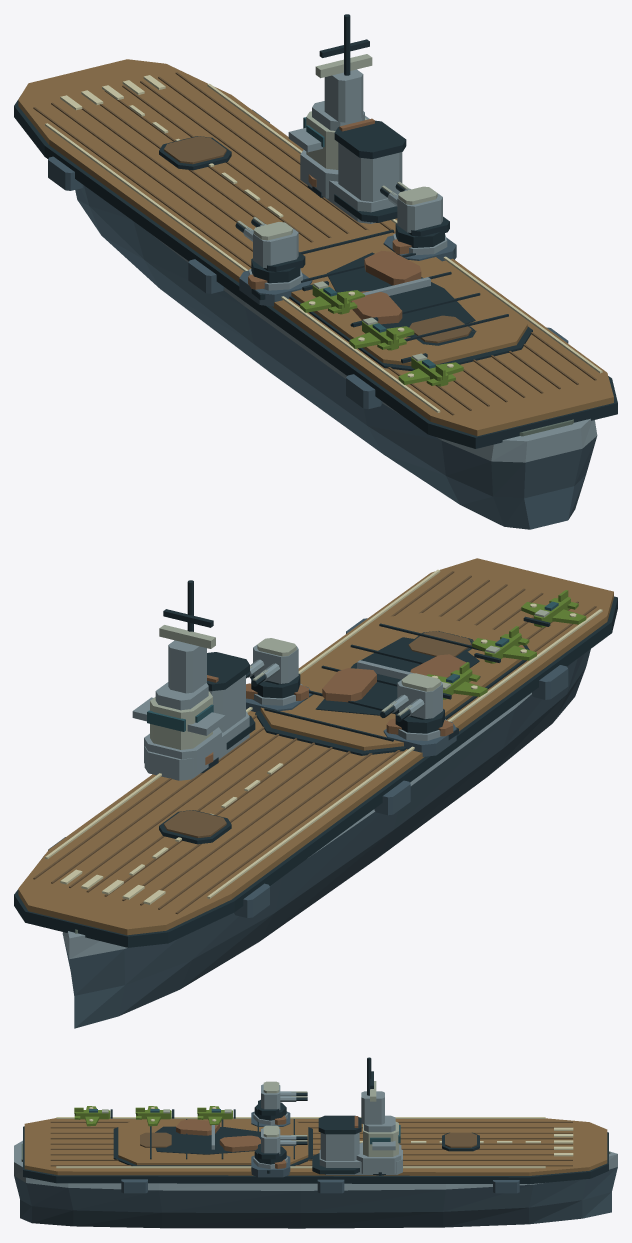
File: historic-saipan.glb
3 views of the same model, one above another, from view 1: azimuth 30°, elevation 25°; view 2: azimuth 150°, elevation 25°; view 3: azimuth 270°, elevation 25° (orthographic). The views are drawn at different scales.
Parts seen in each view (by area): view 1: historic-saipan-historic-saipan-geometry, historic-saipan-part_flight-deck.016-geometry, historic-saipan-part_bridge.074-geometry, historic-saipan-ruin_flight-deck.015-geometry, historic-saipan-historic_funnel_0.077-geometry, historic-saipan-turret_aa_aa-port.078-geometry, historic-saipan-turret_aa_aa-starboard.074-geometry, historic-saipan-aircraft_lift_0.016-geometry, historic-saipan-parked_aircraft_1.016-geometry, historic-saipan-parked_aircraft_0.016-geometry, historic-saipan-parked_aircraft_2.016-geometry, historic-saipan-aircraft_lift_1.016-geometry (+2 smaller); view 2: historic-saipan-historic-saipan-geometry, historic-saipan-part_flight-deck.016-geometry, historic-saipan-part_bridge.074-geometry, historic-saipan-ruin_flight-deck.015-geometry, historic-saipan-historic_funnel_0.077-geometry, historic-saipan-turret_aa_aa-port.078-geometry, historic-saipan-turret_aa_aa-starboard.074-geometry, historic-saipan-aircraft_lift_0.016-geometry, historic-saipan-parked_aircraft_0.016-geometry, historic-saipan-parked_aircraft_1.016-geometry, historic-saipan-part_aa-port.078-geometry, historic-saipan-aircraft_lift_1.016-geometry (+2 smaller); view 3: historic-saipan-historic-saipan-geometry, historic-saipan-part_flight-deck.016-geometry, historic-saipan-part_bridge.074-geometry, historic-saipan-historic_funnel_0.077-geometry, historic-saipan-ruin_flight-deck.015-geometry, historic-saipan-turret_aa_aa-port.078-geometry, historic-saipan-turret_aa_aa-starboard.074-geometry, historic-saipan-aircraft_lift_0.016-geometry, historic-saipan-part_aa-starboard.074-geometry, historic-saipan-parked_aircraft_1.016-geometry, historic-saipan-parked_aircraft_0.016-geometry, historic-saipan-parked_aircraft_2.016-geometry (+2 smaller).
Boxes of the visible parts, box(x1,y1,x2,y2) form: historic-saipan-historic-saipan-geometry: box(14, 59, 617, 529); historic-saipan-part_flight-deck.016-geometry: box(289, 229, 532, 370); historic-saipan-part_bridge.074-geometry: box(288, 14, 372, 198); historic-saipan-ruin_flight-deck.015-geometry: box(327, 250, 475, 337); historic-saipan-historic_funnel_0.077-geometry: box(326, 118, 406, 223); historic-saipan-turret_aa_aa-port.078-geometry: box(235, 217, 305, 283); historic-saipan-turret_aa_aa-starboard.074-geometry: box(380, 181, 449, 247); historic-saipan-aircraft_lift_0.016-geometry: box(159, 136, 231, 170); historic-saipan-parked_aircraft_1.016-geometry: box(349, 317, 414, 350); historic-saipan-parked_aircraft_0.016-geometry: box(398, 353, 463, 386); historic-saipan-parked_aircraft_2.016-geometry: box(300, 281, 364, 314); historic-saipan-aircraft_lift_1.016-geometry: box(409, 315, 476, 345); historic-saipan-historic-saipan-geometry: box(14, 558, 617, 1028); historic-saipan-part_flight-deck.016-geometry: box(255, 612, 529, 755); historic-saipan-part_bridge.074-geometry: box(132, 580, 225, 776); historic-saipan-ruin_flight-deck.015-geometry: box(315, 637, 479, 715); historic-saipan-historic_funnel_0.077-geometry: box(144, 652, 255, 780); historic-saipan-turret_aa_aa-port.078-geometry: box(380, 673, 444, 733); historic-saipan-turret_aa_aa-starboard.074-geometry: box(246, 638, 300, 698); historic-saipan-aircraft_lift_0.016-geometry: box(159, 810, 231, 844); historic-saipan-parked_aircraft_0.016-geometry: box(521, 590, 586, 627); historic-saipan-parked_aircraft_1.016-geometry: box(472, 626, 536, 663); historic-saipan-part_aa-port.078-geometry: box(383, 719, 456, 756); historic-saipan-aircraft_lift_1.016-geometry: box(408, 631, 473, 656); historic-saipan-historic-saipan-geometry: box(14, 1117, 617, 1228); historic-saipan-part_flight-deck.016-geometry: box(113, 1119, 312, 1166); historic-saipan-part_bridge.074-geometry: box(356, 1057, 401, 1173); historic-saipan-historic_funnel_0.077-geometry: box(312, 1115, 402, 1174); historic-saipan-ruin_flight-deck.015-geometry: box(155, 1119, 260, 1154); historic-saipan-turret_aa_aa-port.078-geometry: box(254, 1081, 307, 1120); historic-saipan-turret_aa_aa-starboard.074-geometry: box(254, 1125, 307, 1164); historic-saipan-aircraft_lift_0.016-geometry: box(442, 1132, 479, 1151); historic-saipan-part_aa-starboard.074-geometry: box(251, 1155, 290, 1177); historic-saipan-parked_aircraft_1.016-geometry: box(135, 1106, 174, 1126); historic-saipan-parked_aircraft_0.016-geometry: box(74, 1106, 112, 1126); historic-saipan-parked_aircraft_2.016-geometry: box(197, 1106, 235, 1125).
Bounding box in the file's own units: 1.53 × 1.92 × 5.89.
